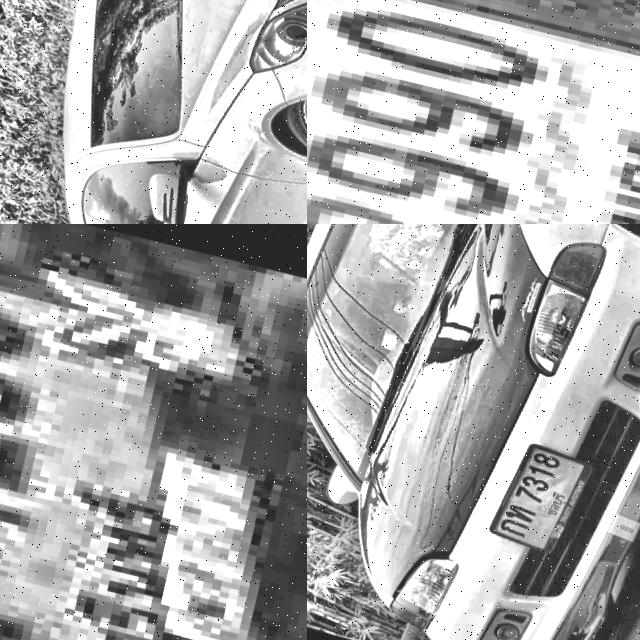license-plate: (0, 224, 307, 640), (307, 0, 640, 224), (481, 432, 596, 558)
